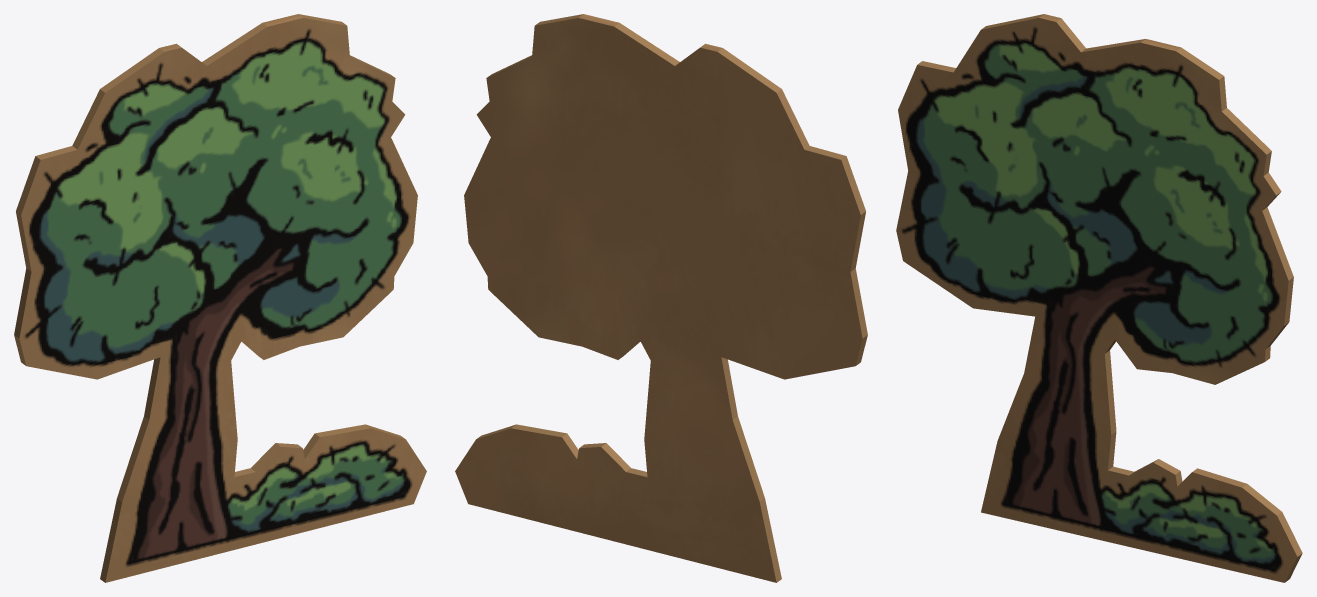
The model's file is SM_Arbre_VF.fbx.
3 views of the same model, side by side, from view 1: azimuth 30°, elevation 25°; view 2: azimuth 150°, elevation 25°; view 3: azimuth 330°, elevation 25° (orthographic).
Visible parts, largest first — view 1: Arbre; view 2: Arbre; view 3: Arbre.
Part boxes in pixels (left/top/right/bottom): Arbre: left=14, top=14, right=426, bottom=582; Arbre: left=455, top=14, right=867, bottom=582; Arbre: left=896, top=14, right=1302, bottom=582.
Size of the model in its own units: 247 by 299 by 5.59.
